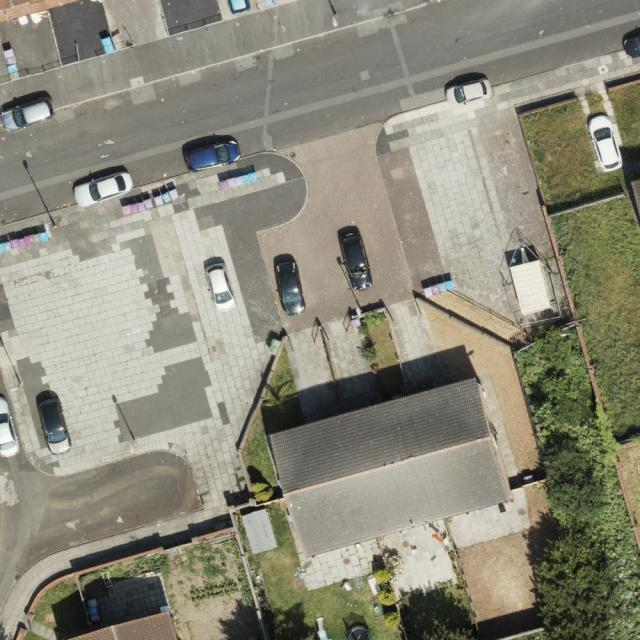roof: (268, 378, 511, 558), (68, 609, 176, 640), (0, 0, 79, 29)
